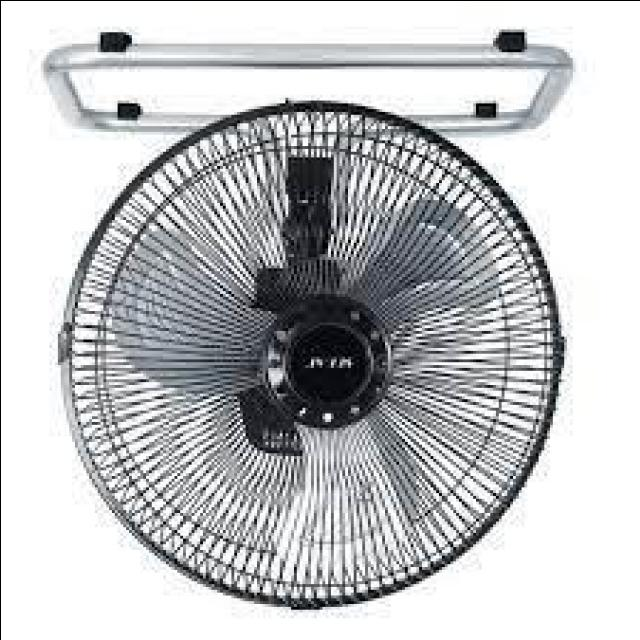fan: (33, 20, 584, 608)
